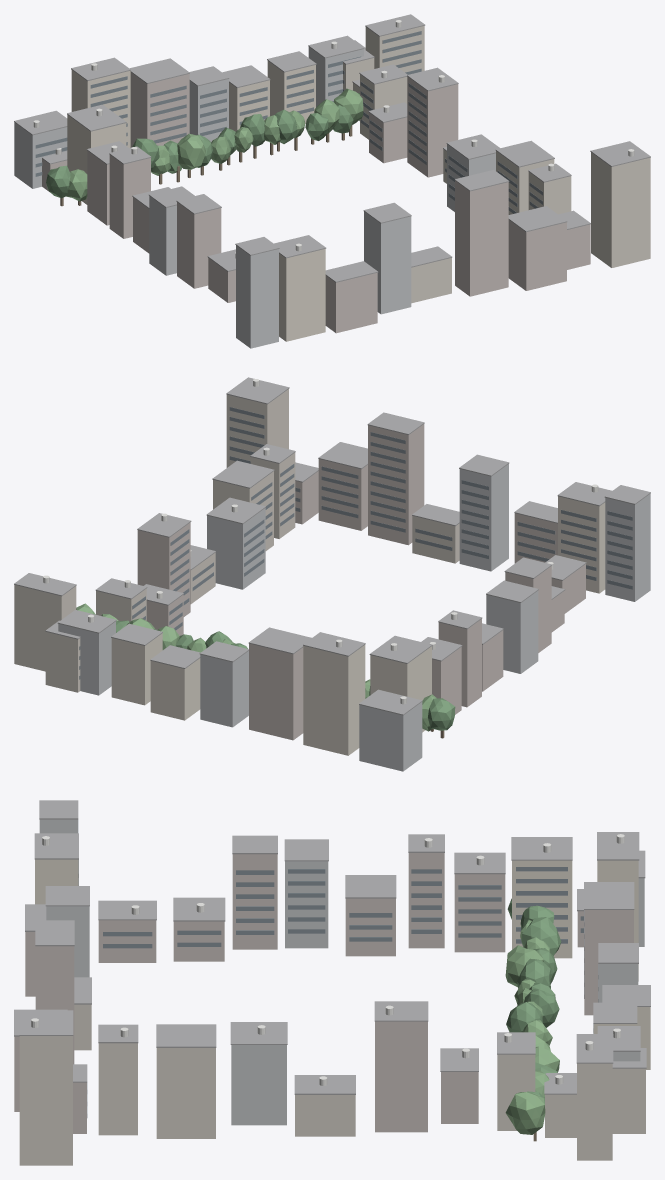
File: skyline.glb
The picture shows the model from 3 angles, top to bottom: view 1: azimuth 30°, elevation 25°; view 2: azimuth 150°, elevation 25°; view 3: azimuth 270°, elevation 25°; orthographic projection. The views are drawn at different scales.
Visible parts, largest first — view 1: skyline; view 2: skyline; view 3: skyline.
Boxes of the visible parts, x1,y1,x2,y2 form: skyline: [14, 14, 650, 348]; skyline: [14, 377, 650, 771]; skyline: [14, 800, 650, 1165].
Bounding box in the file's own units: 133 × 34.27 × 144.
